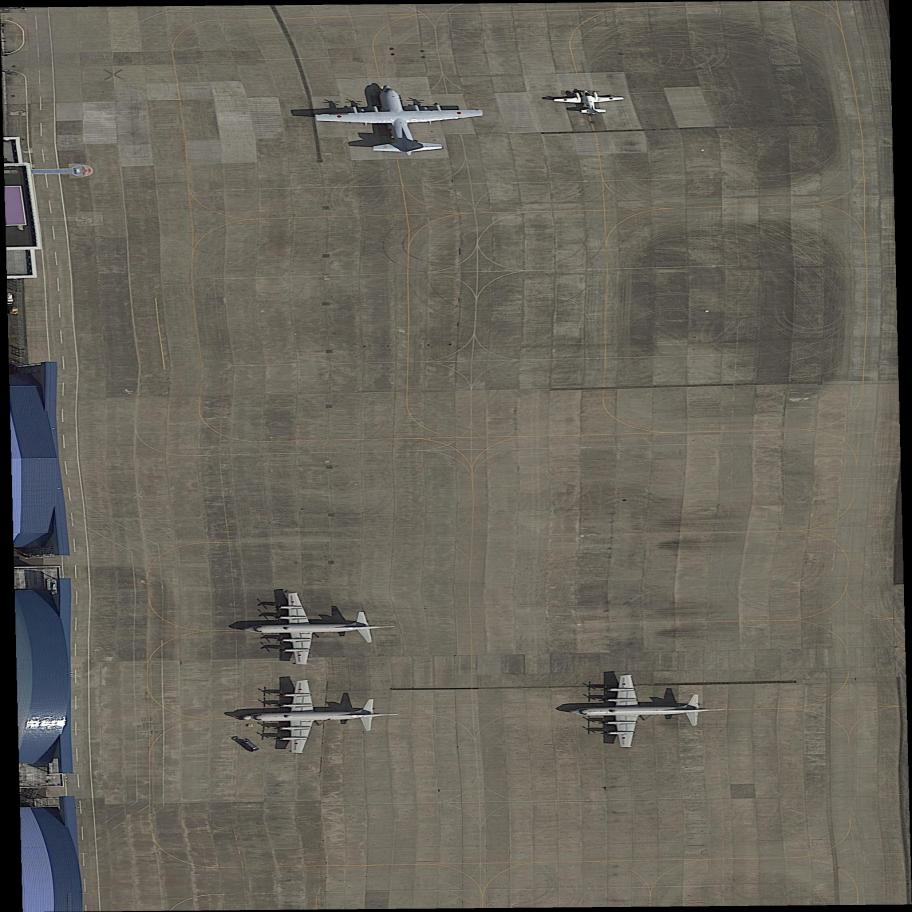plane: (303, 76, 494, 163), (231, 673, 399, 766), (232, 585, 395, 673), (563, 670, 725, 755), (546, 83, 632, 125)
